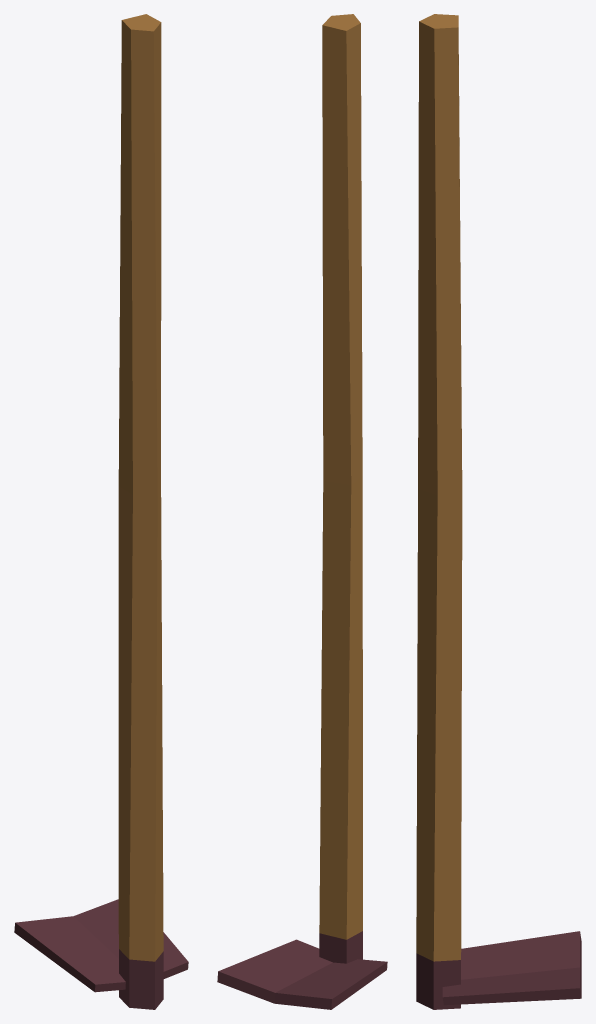
File: tools-garden-hoe.glb
3 views of the same model, side by side, from view 1: azimuth 30°, elevation 25°; view 2: azimuth 150°, elevation 25°; view 3: azimuth 270°, elevation 25° (orthographic). The views are drawn at different scales.
Parts seen in each view (by area): view 1: garden-hoe; view 2: garden-hoe; view 3: garden-hoe.
Part boxes in pixels (x1,y1,x2,y2): garden-hoe: (14,14,188,1009); garden-hoe: (217,14,387,1009); garden-hoe: (416,14,581,1009).
Bounding box in the file's own units: 0.1575 × 1.26 × 0.1925.
